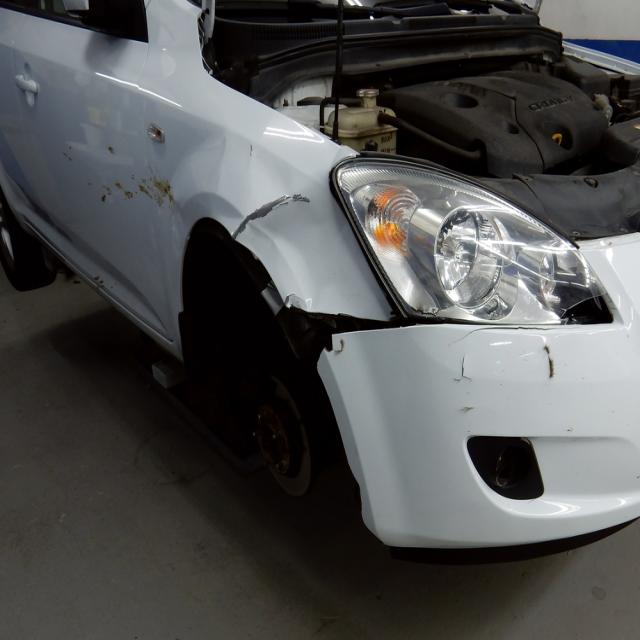crack: (448, 326, 582, 347), (451, 353, 473, 382)
dent: (234, 146, 367, 319)
lamp broken: (333, 158, 619, 326)
